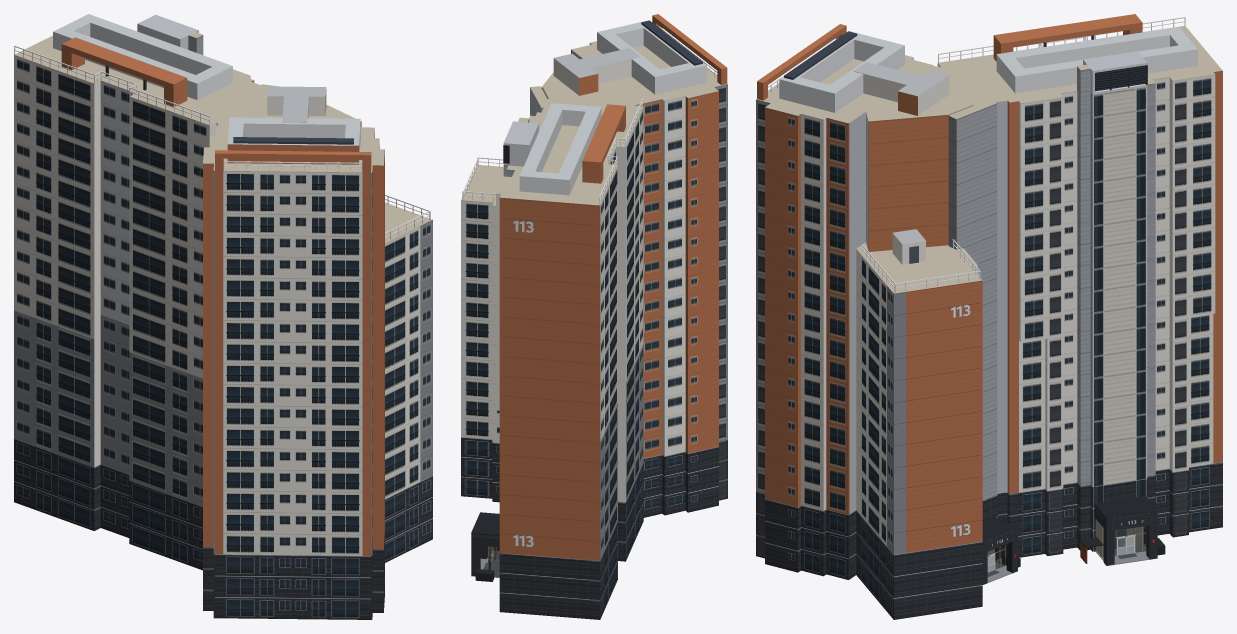
Rendered from 3D_place_113.glb.
3 renders of one model, left to right at view 1: azimuth 30°, elevation 25°; view 2: azimuth 150°, elevation 25°; view 3: azimuth 270°, elevation 25°, orthographic. The views are drawn at different scales.
Visible parts, largest first — view 1: WingA_NW_21F, WingC_SSW_21F, WingB_ENE_15F, KumhoParkHills_113; view 2: WingA_NW_21F, WingC_SSW_21F, WingB_ENE_15F, KumhoParkHills_113; view 3: WingA_NW_21F, WingC_SSW_21F, WingB_ENE_15F, KumhoParkHills_113.
Part boxes in pixels (x1=…): WingA_NW_21F: x1=14, y1=14, x2=267, y2=570; WingC_SSW_21F: x1=203, y1=86, x2=384, y2=619; WingB_ENE_15F: x1=385, y1=194, x2=432, y2=562; KumhoParkHills_113: x1=216, y1=84, x2=361, y2=133; WingA_NW_21F: x1=471, y1=98, x2=643, y2=619; WingC_SSW_21F: x1=553, y1=14, x2=727, y2=517; WingB_ENE_15F: x1=461, y1=157, x2=503, y2=502; KumhoParkHills_113: x1=530, y1=72, x2=650, y2=115; WingA_NW_21F: x1=937, y1=14, x2=1222, y2=565; WingC_SSW_21F: x1=756, y1=24, x2=949, y2=579; WingB_ENE_15F: x1=856, y1=229, x2=982, y2=619; KumhoParkHills_113: x1=861, y1=63, x2=1020, y2=584.
Bounding box in the file's own units: 35.95 × 58.6 × 51.55.
Materials: 155 (88 with a texture image).
